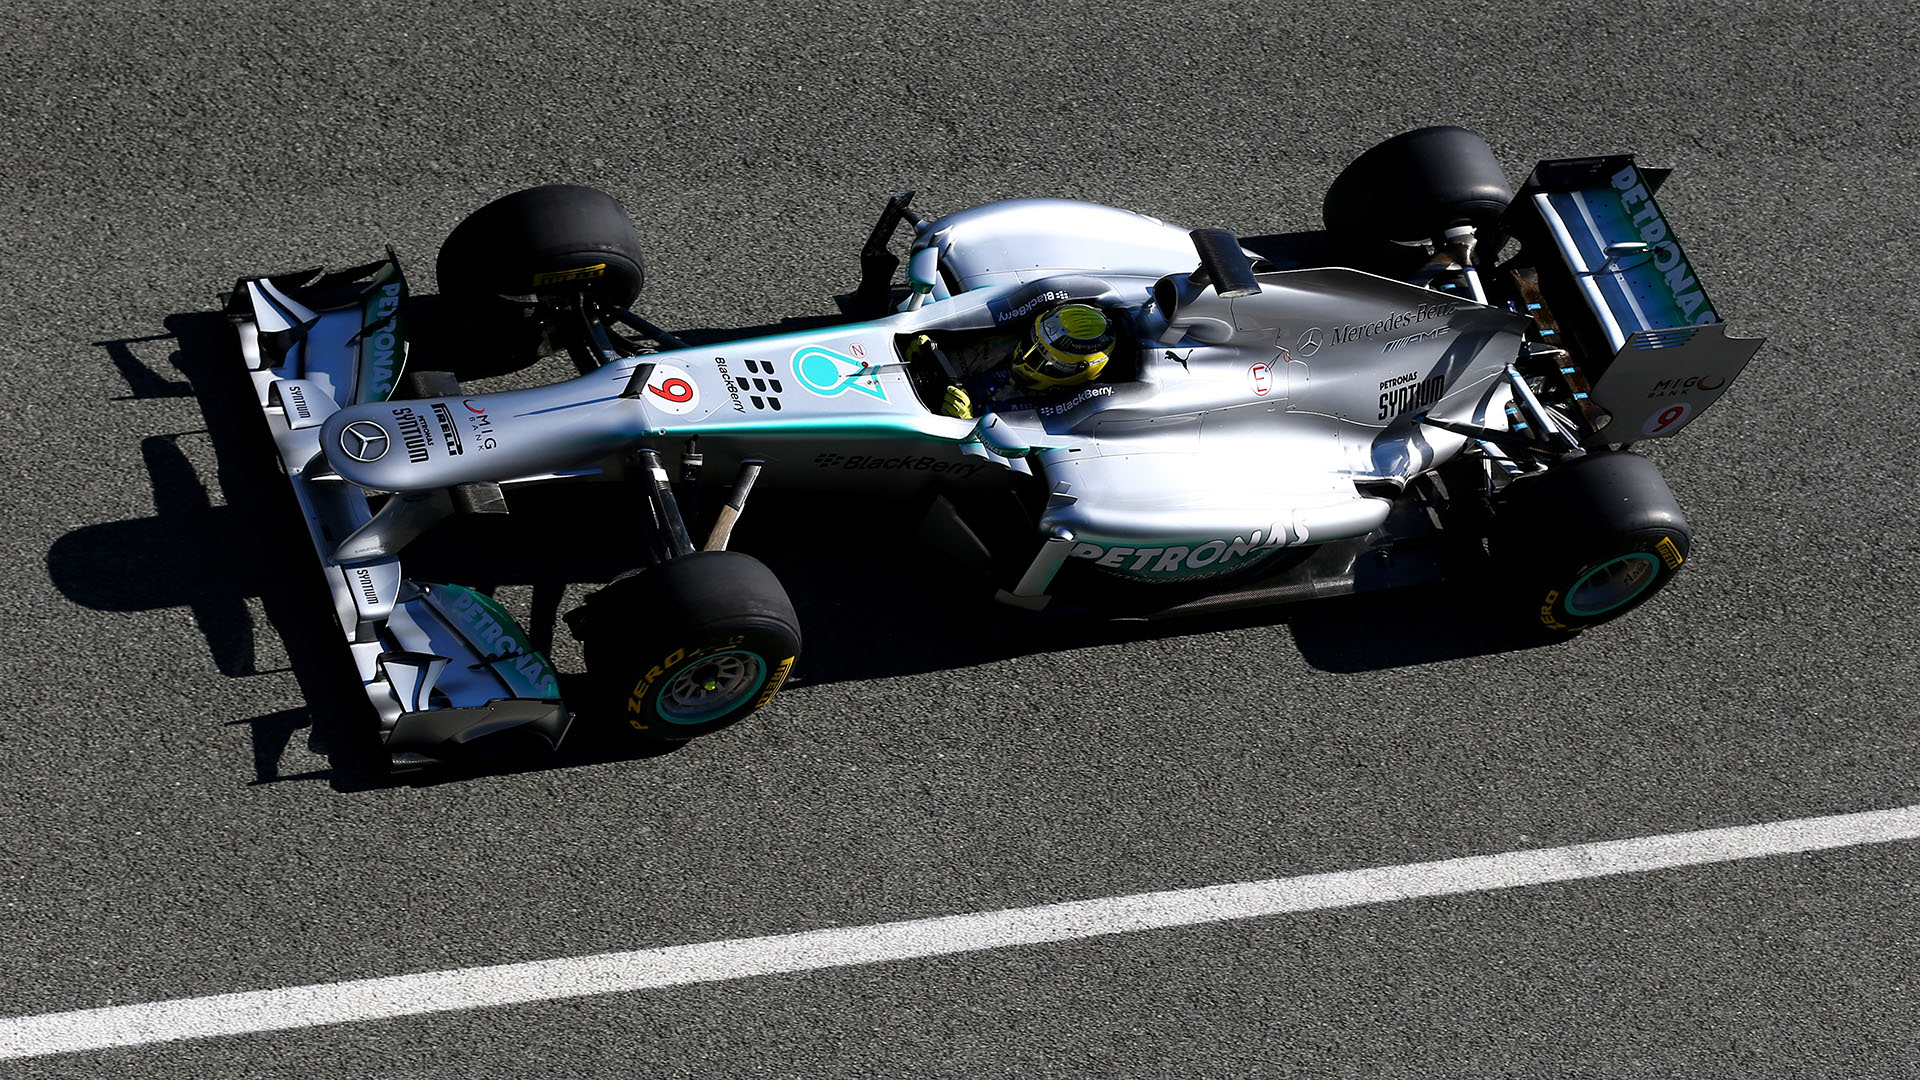f1_car: (166, 88, 1788, 808)
helmet: (1000, 286, 1129, 414)
